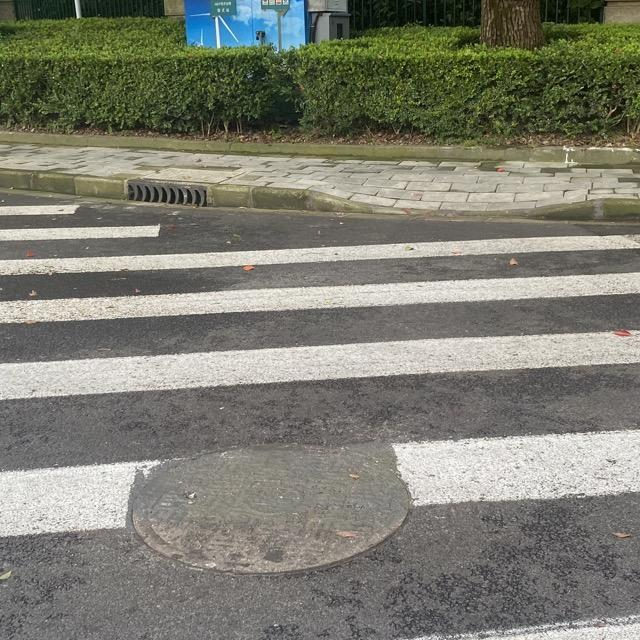curb: (0, 168, 639, 220), (0, 131, 564, 164), (571, 148, 639, 169)
